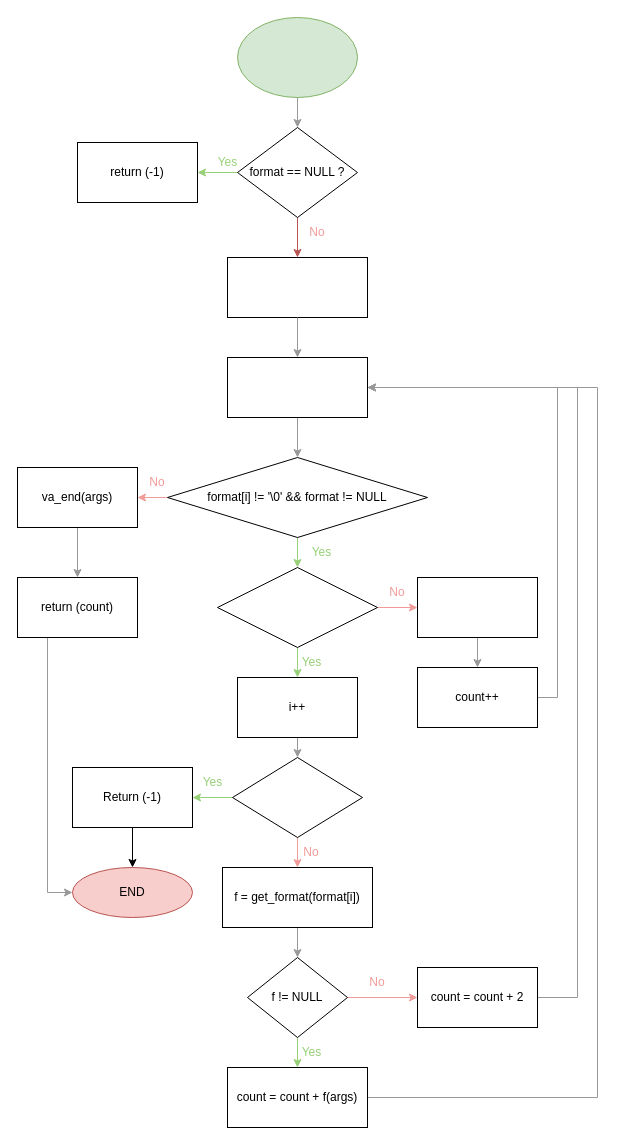
Some shapes in this 623 by 1145 pixel diagram are drawn without their labels. Each missing label, with the box of its shape:
_putchar(format[i]): (416, 576, 538, 638)
format[i] == '%': (216, 566, 378, 648)
format[i] == '\0': (232, 756, 362, 838)
int i = 0, count = 0: (226, 356, 368, 418)
START: (236, 16, 358, 98)
va_start(args, format): (226, 256, 368, 318)
